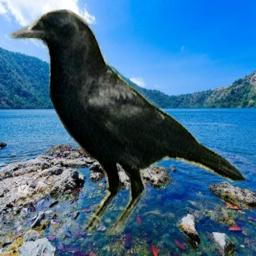Crow: (8, 9, 247, 235)
